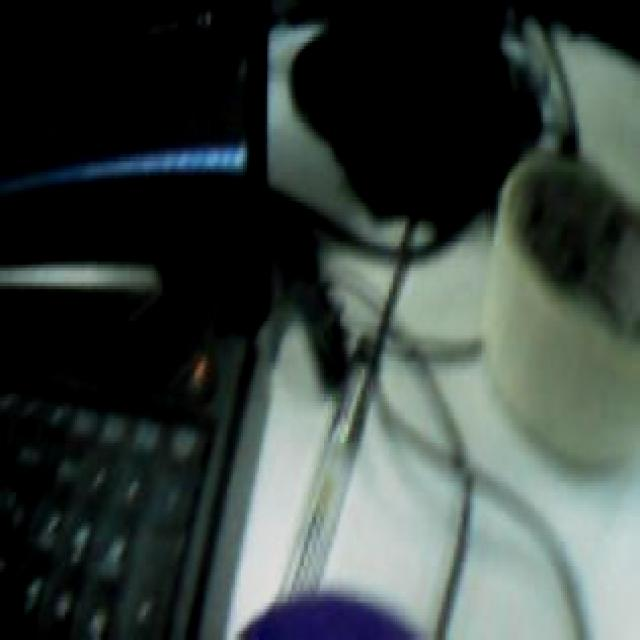BallPurple: (230, 588, 421, 640)
